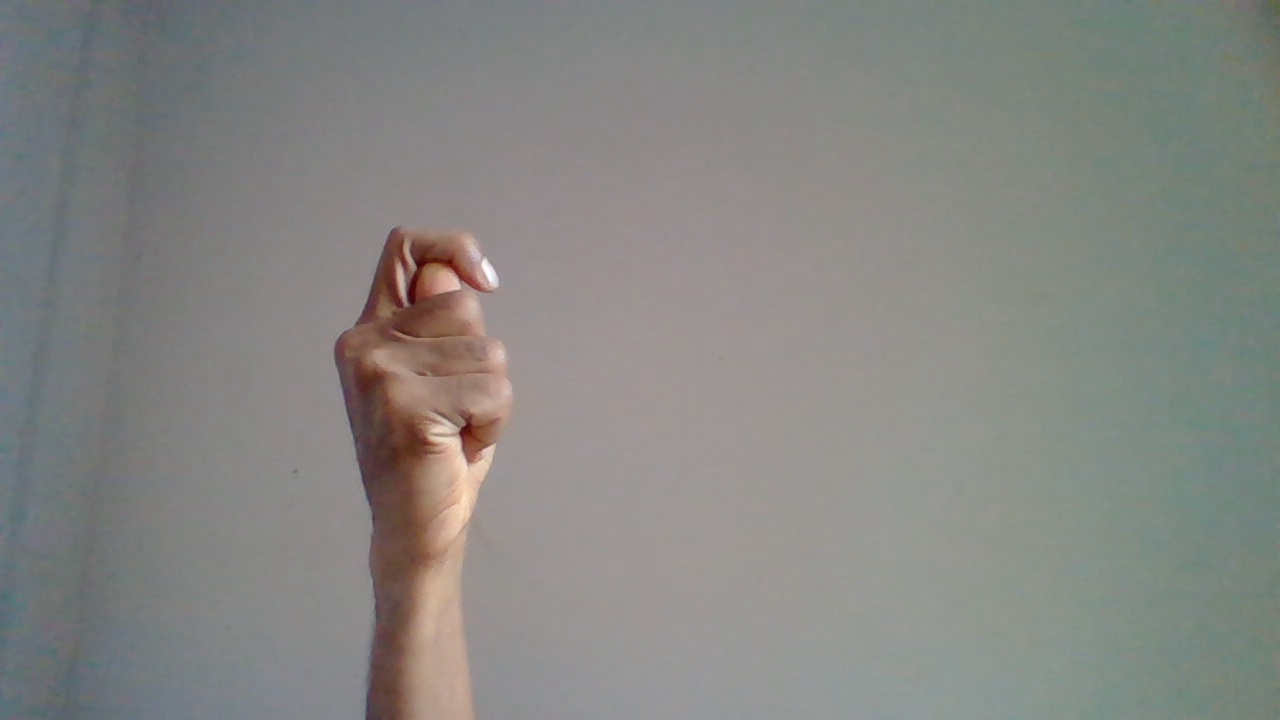che: (328, 223, 513, 652)
